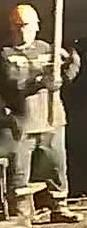gloves: (37, 73, 62, 90)
helmet: (8, 4, 41, 27)
vest: (3, 41, 65, 132)
